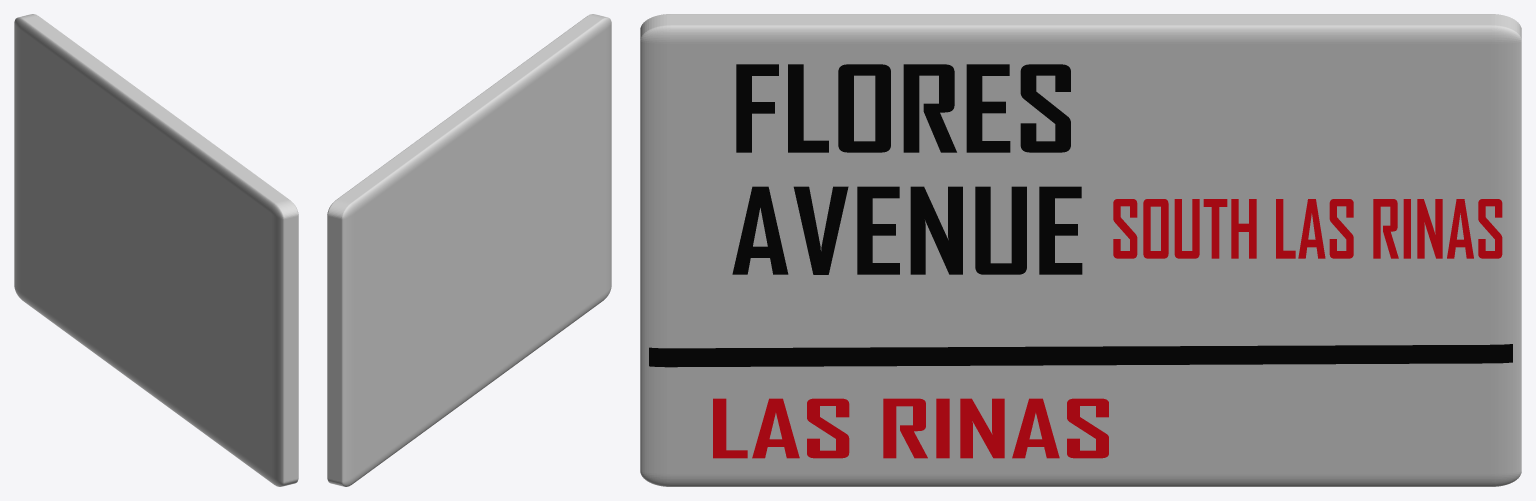
Rendered from las_rinas_sign_2.fbx.
3 views of the same model, side by side, from view 1: azimuth 30°, elevation 25°; view 2: azimuth 150°, elevation 25°; view 3: azimuth 270°, elevation 25° (orthographic). The views are drawn at different scales.
Visible parts, largest first — view 1: Cube; view 2: Cube; view 3: Cube, Text.001, Text, Text.002, Text.003.
Part boxes in pixels (x1,y1,x2,y2): Cube: [14, 14, 298, 486]; Cube: [327, 14, 611, 486]; Cube: [640, 14, 1521, 486]; Text.001: [732, 186, 1082, 274]; Text: [736, 64, 1070, 152]; Text.002: [713, 398, 1108, 458]; Text.003: [1113, 199, 1502, 258].
Size of the model in its own units: 1.63 by 20.07 by 34.74.
